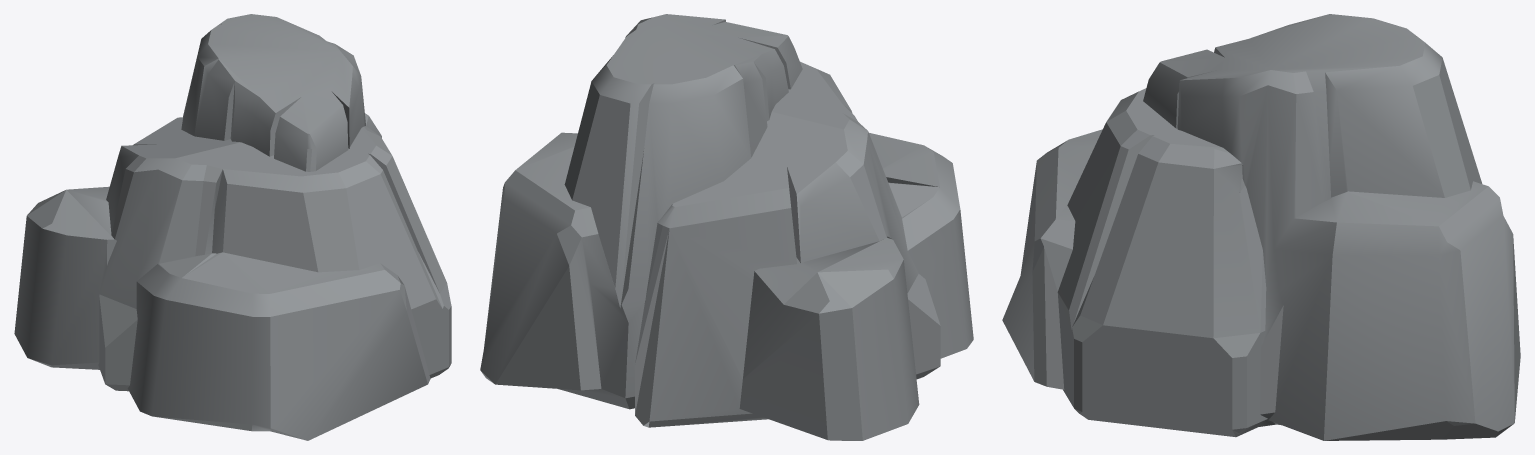
Rendered from Big_rock.glb.
The picture shows the model from 3 angles, left to right: view 1: azimuth 30°, elevation 25°; view 2: azimuth 150°, elevation 25°; view 3: azimuth 270°, elevation 25°; orthographic projection. The views are drawn at different scales.
Parts seen in each view (by area): view 1: Big_rock; view 2: Big_rock; view 3: Big_rock.
Part boxes in pixels (x1,y1,x2,y2): Big_rock: (14, 14, 451, 440); Big_rock: (480, 14, 973, 440); Big_rock: (1002, 14, 1520, 440).
Bounding box in the file's own units: 0.1447 × 0.1119 × 0.1537.
Materials: 1 (1 with a texture image).
